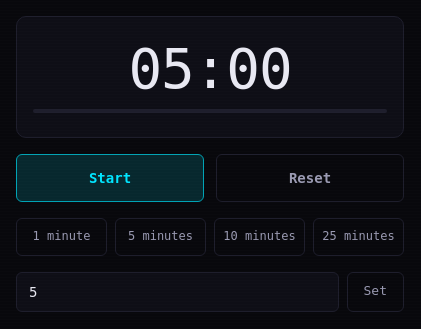
Test: Timer › counts down once started
The image size is (421, 329).
Click the button "Start" at (110, 178), box [16,154,204,202]
Wait 3000 ms
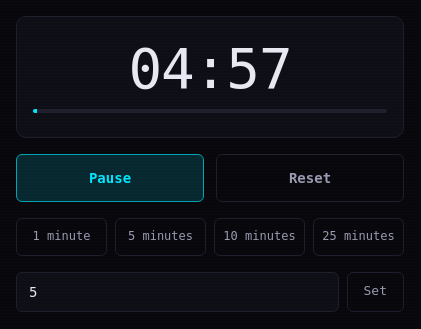
Expected: the text named "time remaining" reads "04:57", [128,36,292,101]
